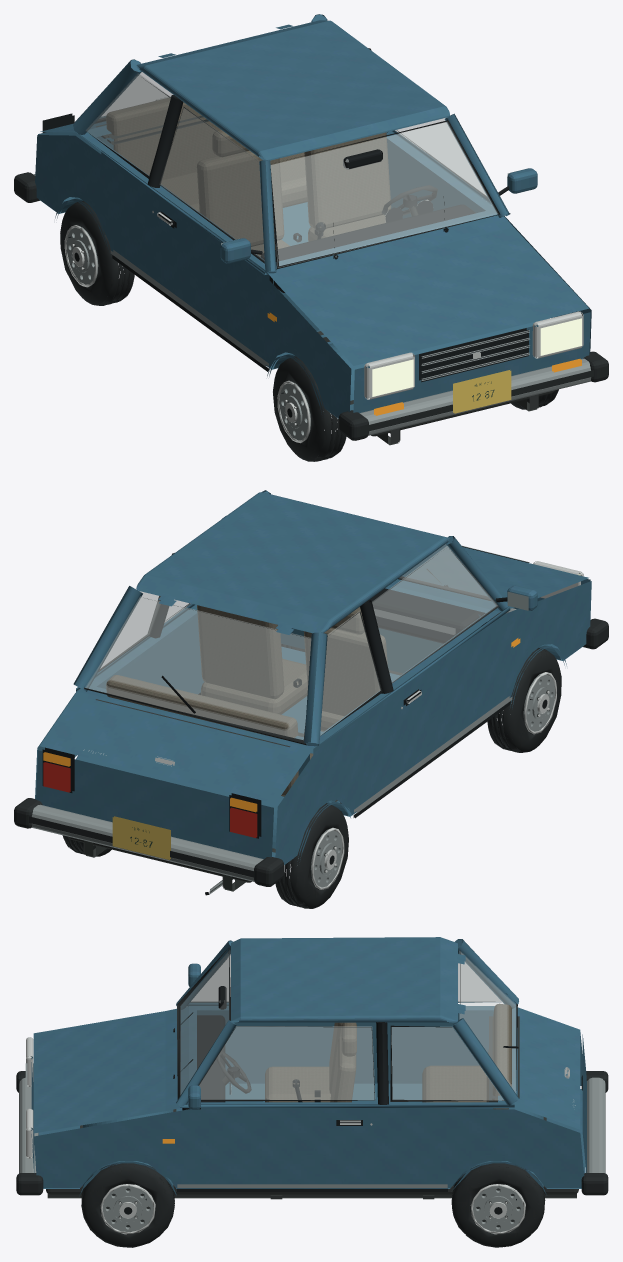
File: kei_hatchback-v11.glb
3 views of the same model, one above another, from view 1: azimuth 30°, elevation 25°; view 2: azimuth 150°, elevation 25°; view 3: azimuth 270°, elevation 25° (orthographic). The views are drawn at different scales.
Parts seen in each view (by area): view 1: Body, Wheel_FL_mesh, Wheel_RL_mesh; view 2: Body, Wheel_FL_mesh, Wheel_RL_mesh; view 3: Body, Wheel_FR_mesh, Wheel_RR_mesh.
Part boxes in pixels (<box>): Body: <box>14,14,608,445</box>; Wheel_FL_mesh: <box>273,356,346,461</box>; Wheel_RL_mesh: <box>60,201,134,305</box>; Body: <box>14,490,608,895</box>; Wheel_FL_mesh: <box>487,648,561,752</box>; Wheel_RL_mesh: <box>275,803,348,908</box>; Body: <box>16,937,608,1199</box>; Wheel_FR_mesh: <box>81,1163,174,1247</box>; Wheel_RR_mesh: <box>451,1163,545,1247</box>.
Size of the model in its own units: 1.76 by 1.37 by 3.33.
15 materials, 3 textured.
